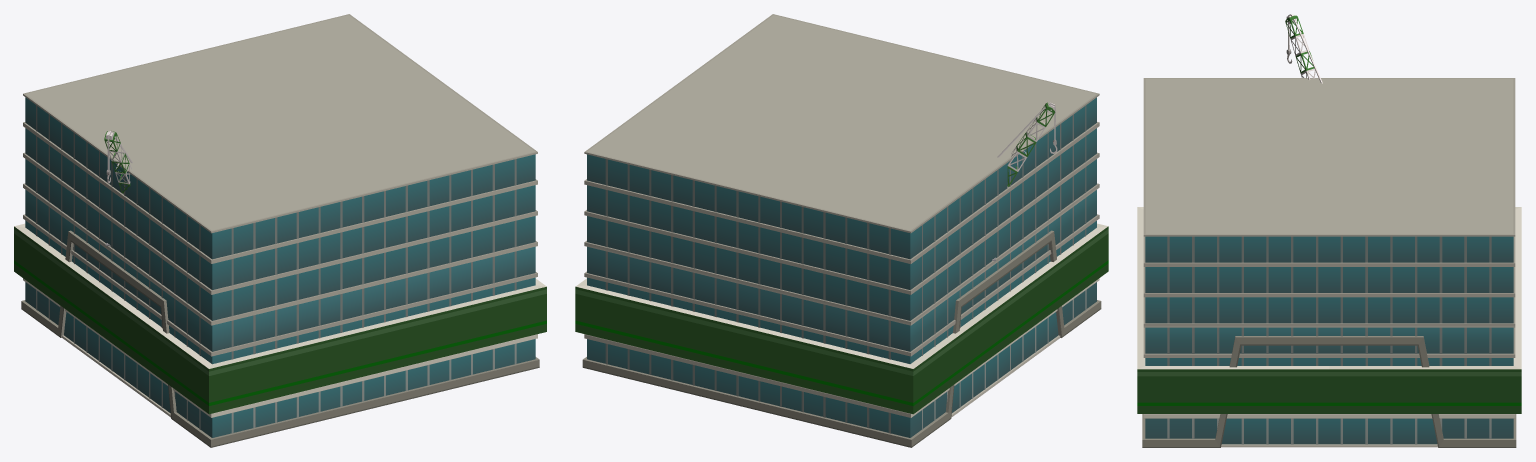
3 views of the same model, side by side, from view 1: azimuth 30°, elevation 25°; view 2: azimuth 150°, elevation 25°; view 3: azimuth 270°, elevation 25° (orthographic).
Visible parts, largest first — view 1: midTower, baseTower, topTower, crane; view 2: baseTower, midTower, topTower, crane; view 3: midTower, baseTower, topTower, crane.
Part boxes in pixels (x1,y1,x2,y2): midTower: (23, 14, 537, 427); baseTower: (21, 94, 539, 447); topTower: (14, 223, 546, 433); crane: (104, 131, 132, 246); baseTower: (582, 94, 1101, 447); midTower: (584, 14, 1099, 427); topTower: (575, 223, 1108, 429); crane: (992, 102, 1057, 261); midTower: (1143, 78, 1515, 444); baseTower: (1142, 235, 1516, 447); topTower: (1137, 207, 1521, 447); crane: (1285, 14, 1322, 83).
Size of the model in its own units: 0.8869 by 0.6235 by 0.8239.
